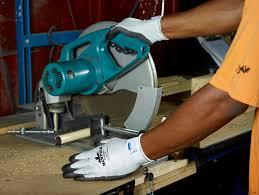Gloves: (66, 137, 149, 181), (113, 13, 170, 50)
